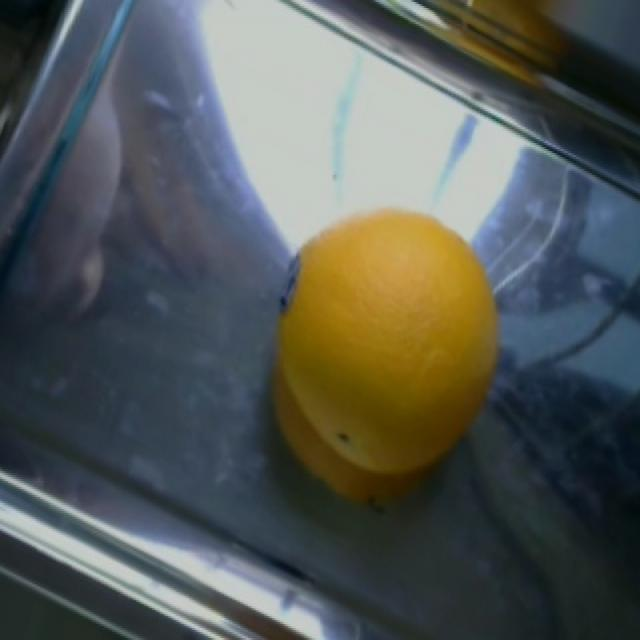Fruit: (252, 181, 523, 527)
